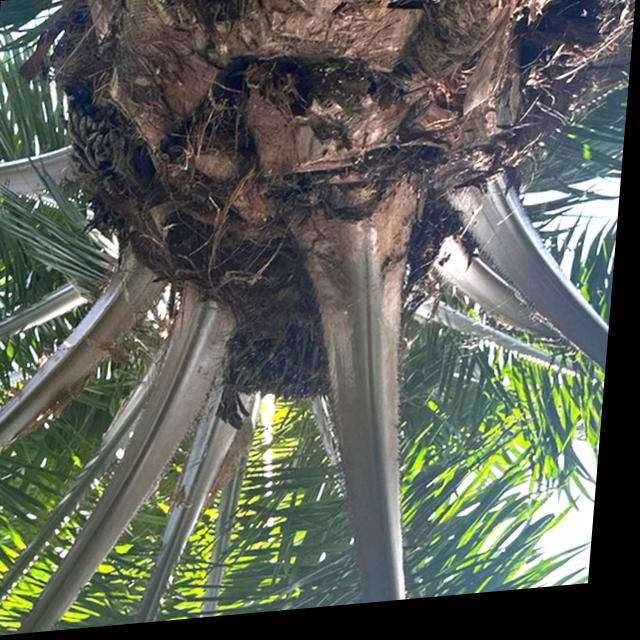unripe: (221, 312, 345, 420)
